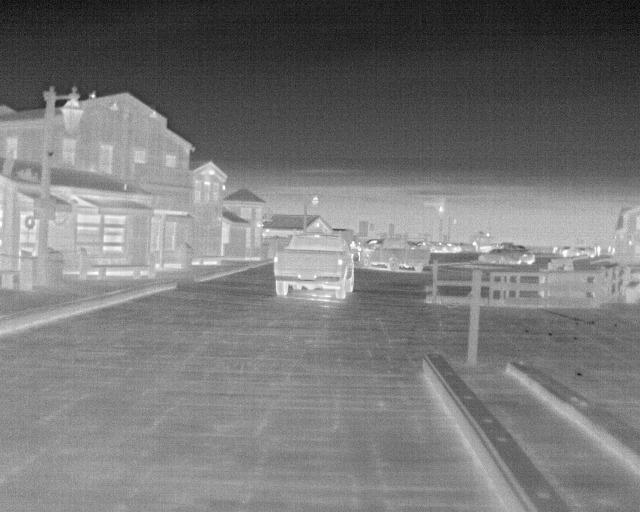car: (269, 230, 356, 301), (358, 235, 430, 273), (477, 247, 521, 266)
